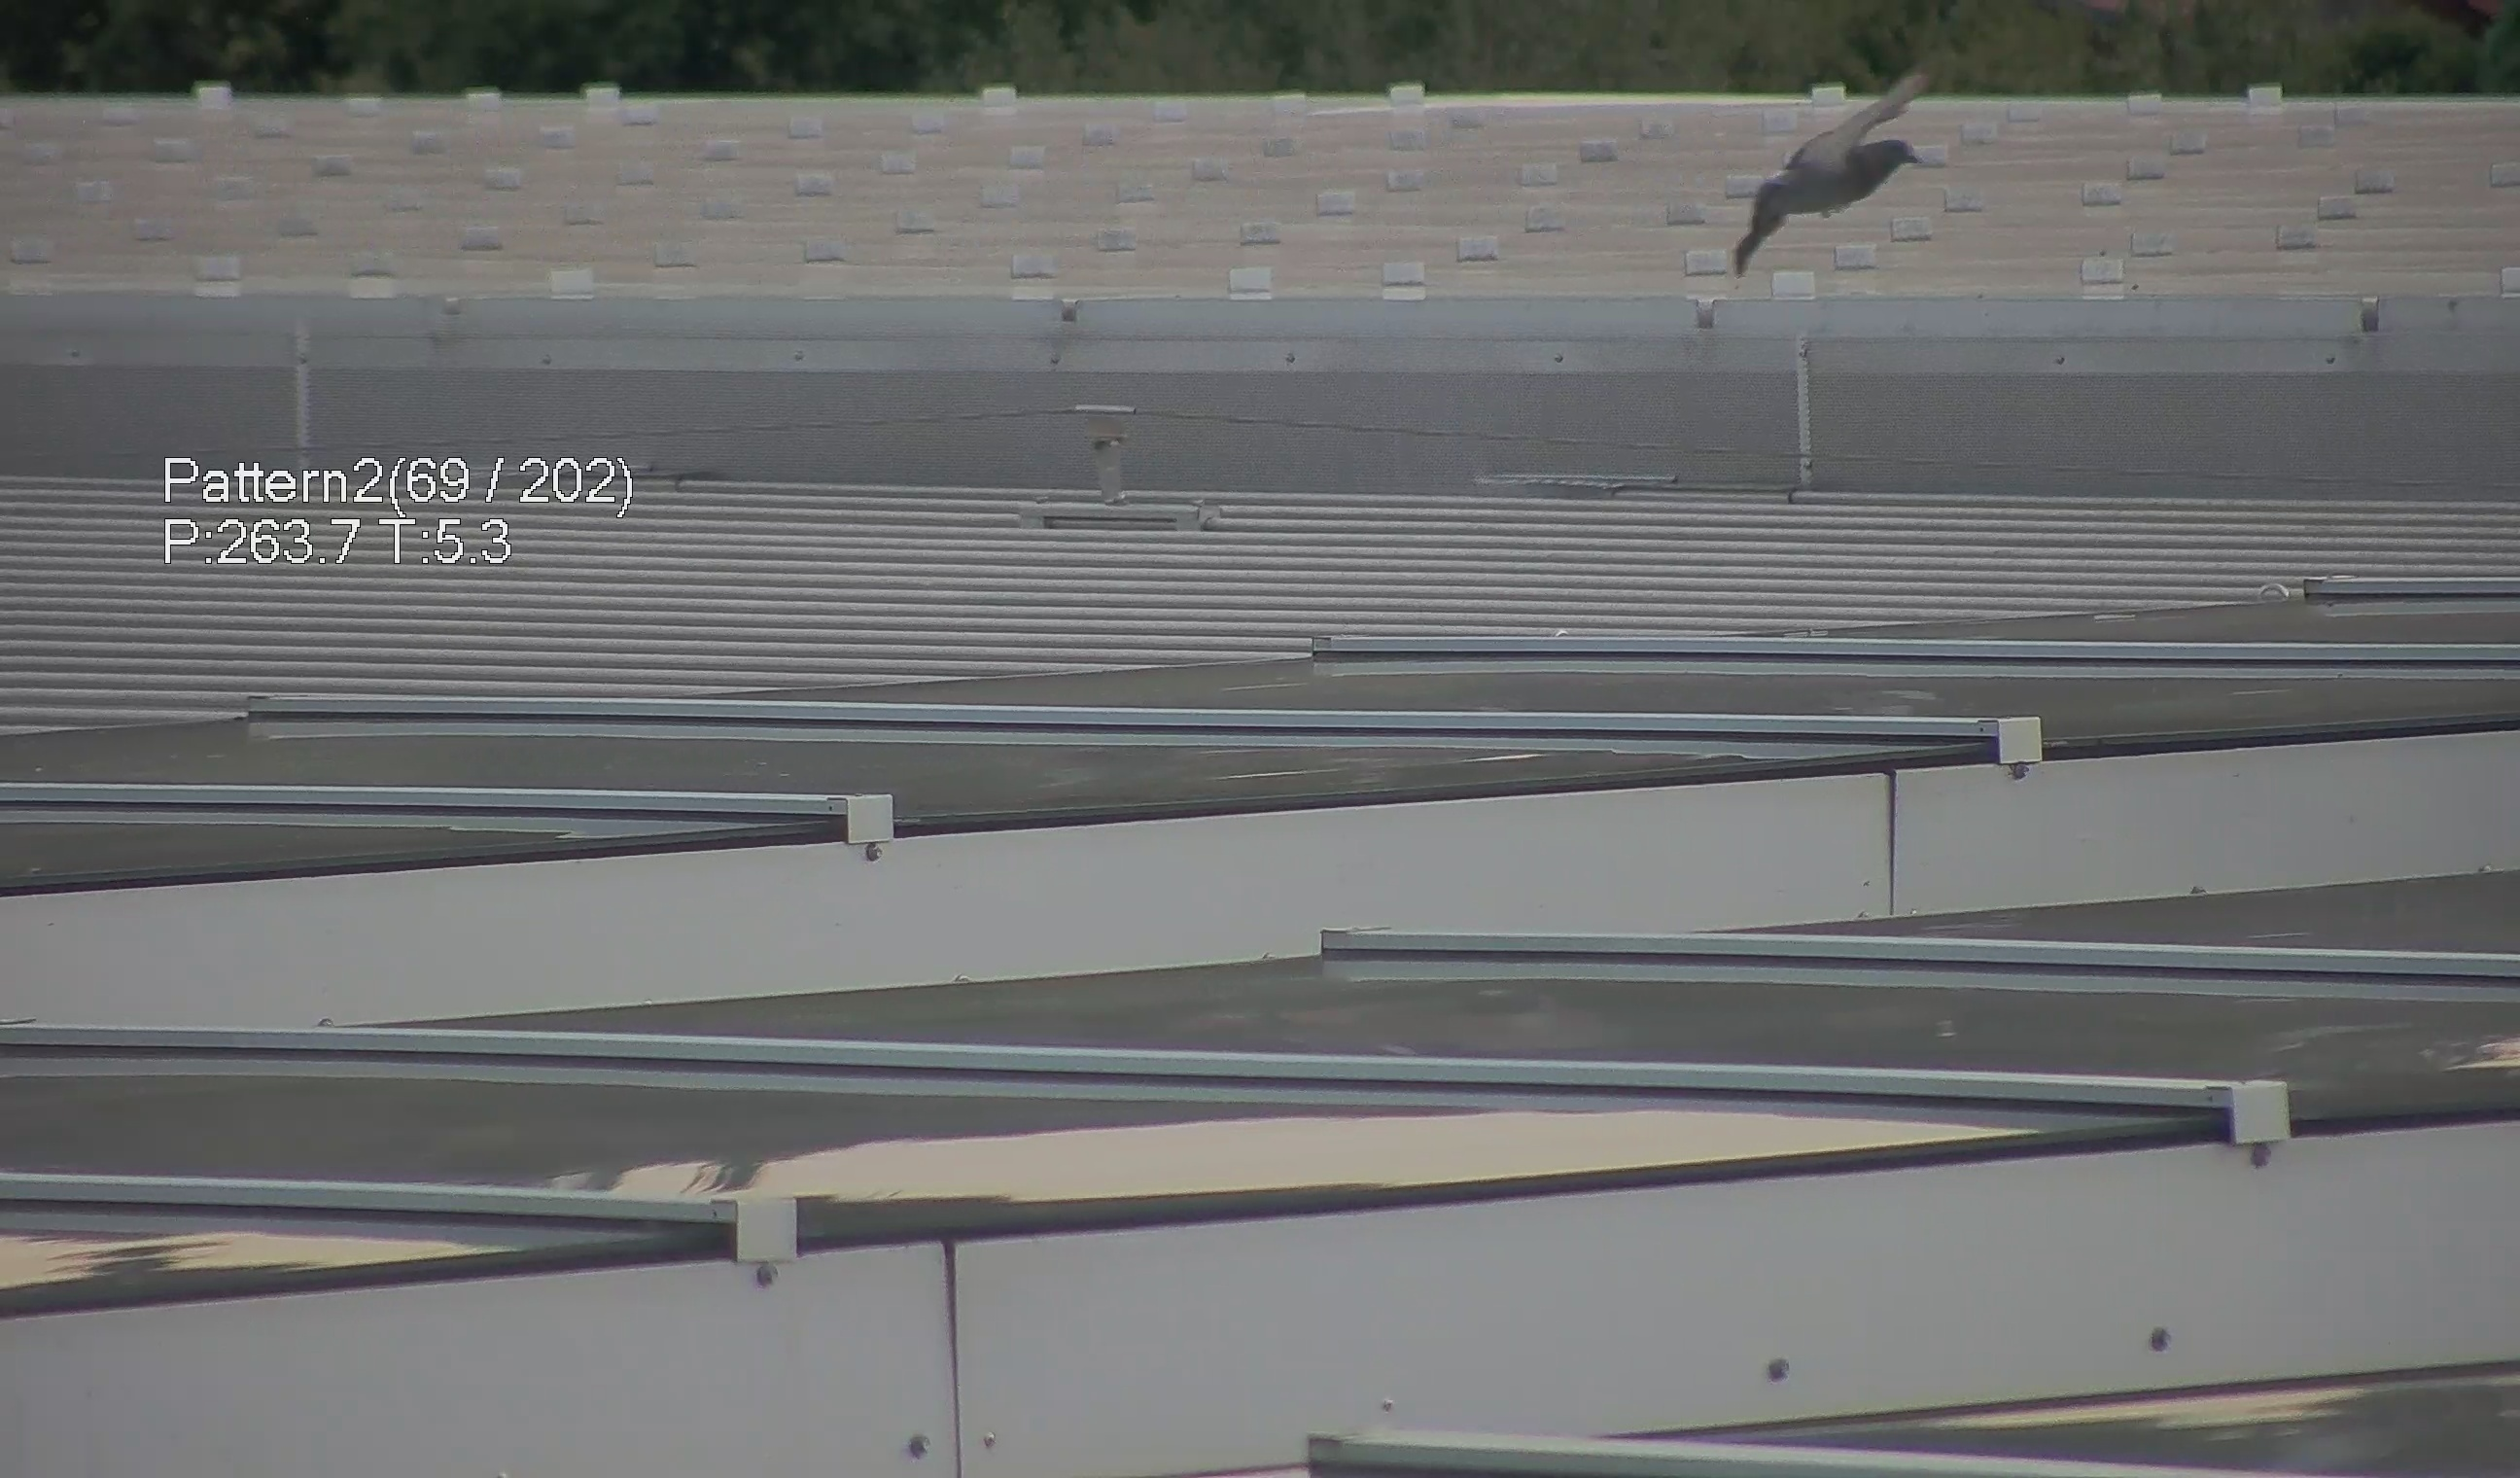Pigeon: (1739, 70, 1952, 274)
